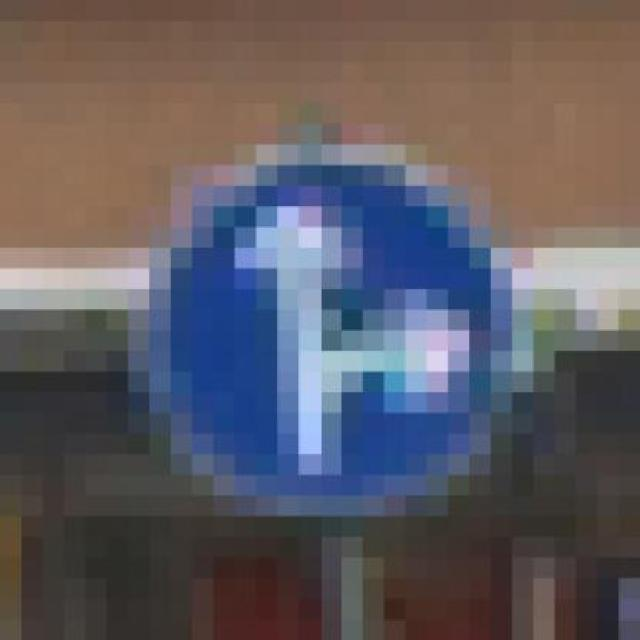Go Straight or Turn Right: (149, 124, 534, 516)
